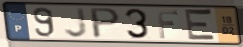3: (124, 7, 151, 41)
9: (32, 6, 56, 38)
E: (184, 7, 218, 43)
F: (155, 9, 180, 40)
J: (63, 7, 90, 39)
P: (89, 7, 123, 40)
